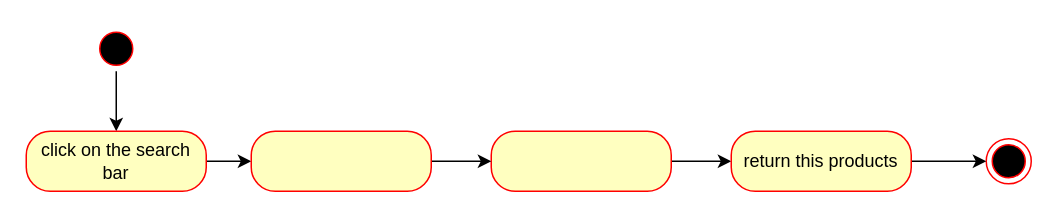
Image size: 1058x219. Some labels were removed from this diagram. Each missing label, with the box of its shape:
find all products that contain the partial search in their name: (490, 130, 671, 191)
type the parcial name of the product: (250, 130, 431, 191)
